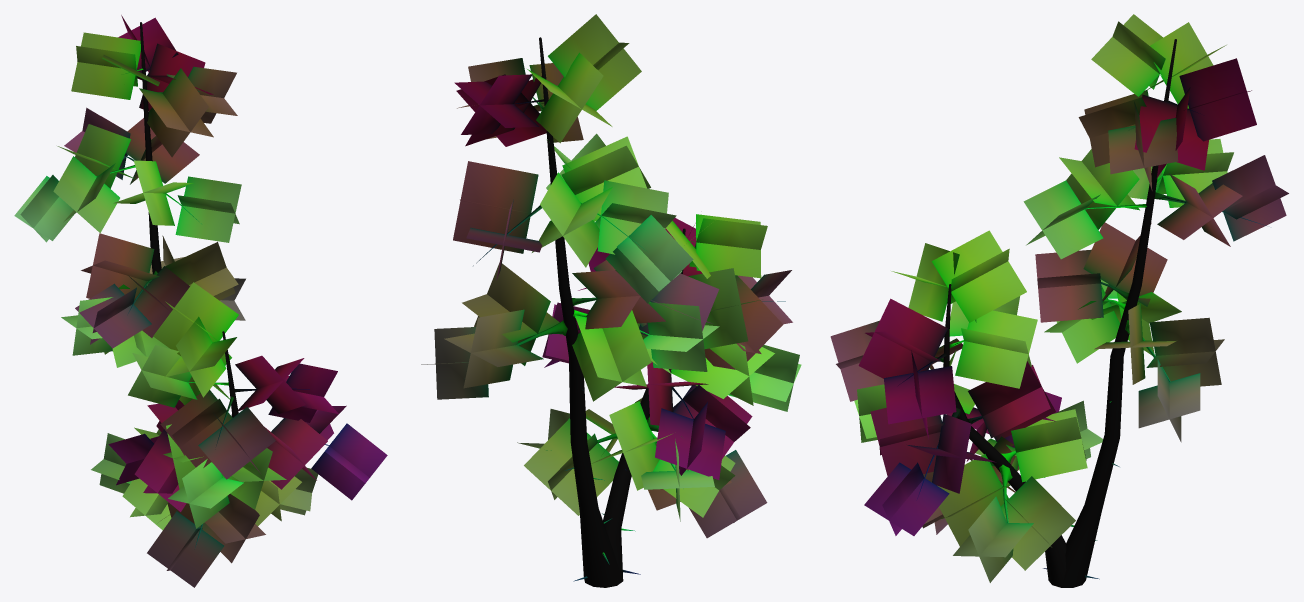
File: URP_P7_Tree_8_LOD_2.fbx
3 views of the same model, side by side, from view 1: azimuth 30°, elevation 25°; view 2: azimuth 150°, elevation 25°; view 3: azimuth 270°, elevation 25° (orthographic). The views are drawn at different scales.
Parts seen in each view (by area): view 1: Tree_8_LOD_2; view 2: Tree_8_LOD_2; view 3: Tree_8_LOD_2.
Boxes of the visible parts, x1,y1,x2,y2 form: Tree_8_LOD_2: [14, 15, 387, 587]; Tree_8_LOD_2: [421, 14, 801, 587]; Tree_8_LOD_2: [830, 14, 1288, 587].
Size of the model in its own units: 275 by 544 by 412.
